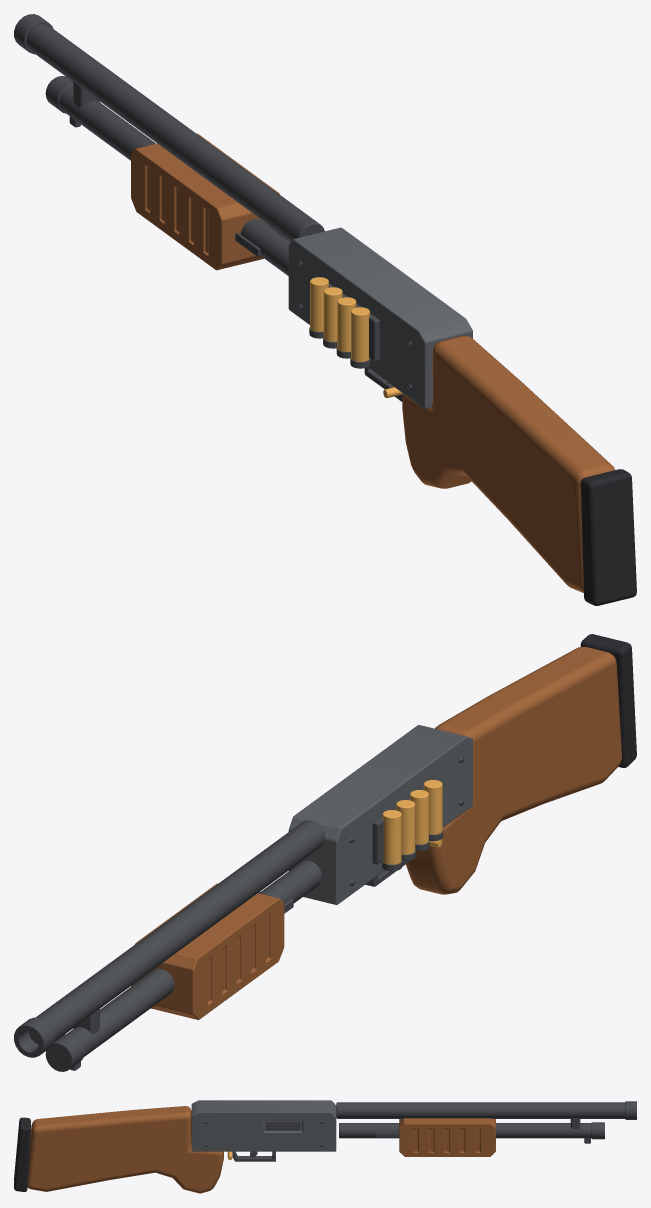
Rendered from brute.glb.
3 views of the same model, one above another, from view 1: azimuth 30°, elevation 25°; view 2: azimuth 150°, elevation 25°; view 3: azimuth 270°, elevation 25° (orthographic). The views are drawn at different scales.
Visible parts, largest first — view 1: stock.001, receiver.001, barrel.001, pump, recoilpad, magtube, shell, shell.002, shell.001, shell.003; view 2: stock.001, receiver.001, barrel.001, pump, magtube, recoilpad, muzzle, magcap, shell.003, shell.002, shell, shell.001; view 3: stock.001, receiver.001, barrel.001, pump, magtube, recoilpad, breechface, tguard.001, magcap, muzzle.
Part boxes in pixels (x1,y1,x2,y2): stock.001: (402, 335, 614, 592); receiver.001: (288, 227, 472, 408); barrel.001: (26, 23, 324, 241); pump: (131, 133, 291, 270); recoilpad: (580, 469, 636, 605); magtube: (59, 86, 290, 275); shell: (351, 307, 369, 361); shell.002: (323, 287, 342, 341); shell.001: (337, 297, 356, 351); shell.003: (310, 277, 328, 331); stock.001: (406, 647, 621, 894); receiver.001: (288, 725, 472, 904); barrel.001: (29, 820, 325, 1044); pump: (131, 883, 293, 1019); magtube: (67, 860, 322, 1056); recoilpad: (580, 634, 636, 767); muzzle: (14, 1017, 54, 1057); magcap: (45, 1034, 84, 1071); shell.003: (382, 810, 401, 864); shell.002: (396, 800, 415, 854); shell: (423, 780, 442, 834); shell.001: (410, 790, 428, 844); stock.001: (27, 1106, 223, 1193); receiver.001: (191, 1100, 336, 1151); barrel.001: (336, 1102, 625, 1118); pump: (375, 1118, 495, 1156); magtube: (339, 1123, 591, 1138); recoilpad: (14, 1117, 30, 1191); breechface: (266, 1121, 300, 1130); tguard.001: (232, 1151, 275, 1161); magcap: (591, 1122, 604, 1139); muzzle: (625, 1101, 636, 1119).
Size of the model in its own units: 0.0969 by 0.2015 by 1.29.
